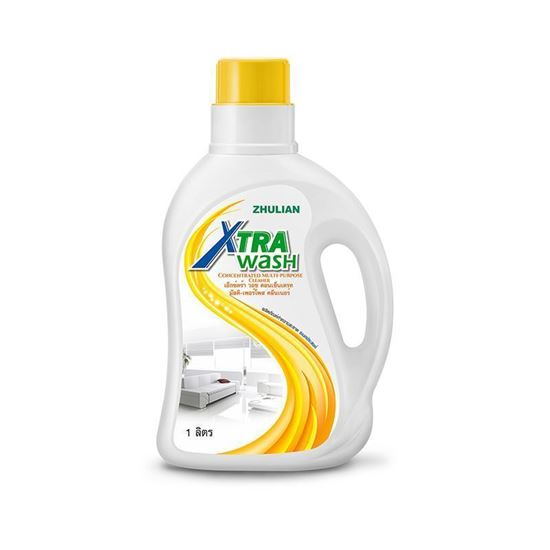Cleaning_solution: (145, 50, 399, 484)
